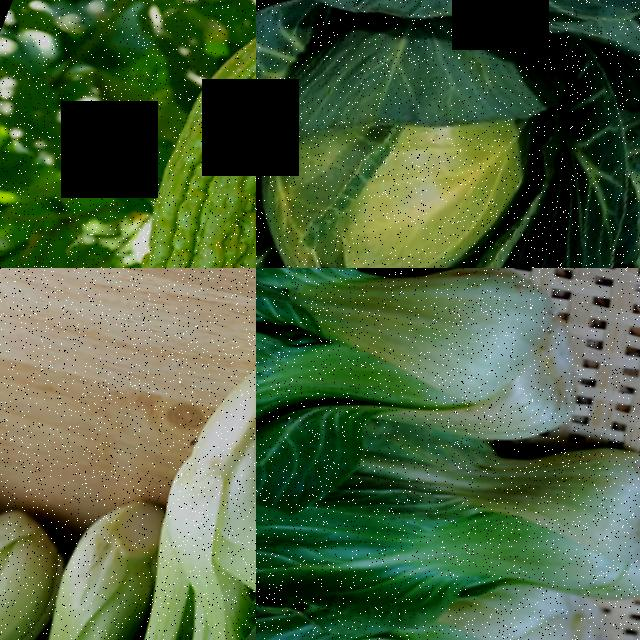bitter gourd: (101, 0, 256, 268)
bok choy: (256, 374, 640, 640), (256, 268, 602, 504), (122, 370, 256, 640), (0, 485, 179, 640), (399, 591, 640, 640)
cabbage: (256, 0, 640, 268)
